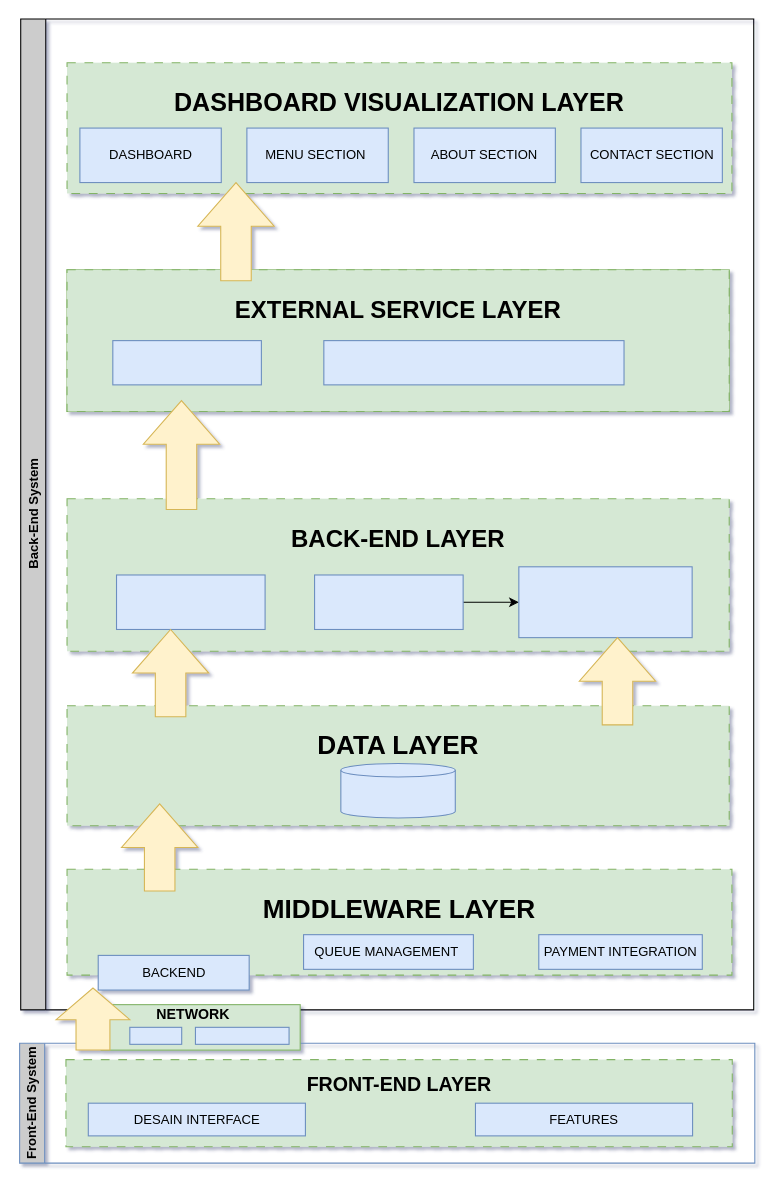
Some shapes in this 782 by 1189 pixel diagram are drawn without their labels. The shapes that lost their labels are listed below. From the top down, each one's centre as x and y in pixels, then its label:
[186,362]: PAYMENT GATEAWAY
[473,362]: NOTIFICACTION MESSAGE WHATSAPP
[190,601]: SERVER
[388,601]: FEATURE
[605,602]: MENGELOLA DATA PESANAN, STATUS, AUTENTIKASI PENGGUNA
[397,790]: DATABASE MENU
[155,1035]: API
[241,1035]: KEAMANAN
